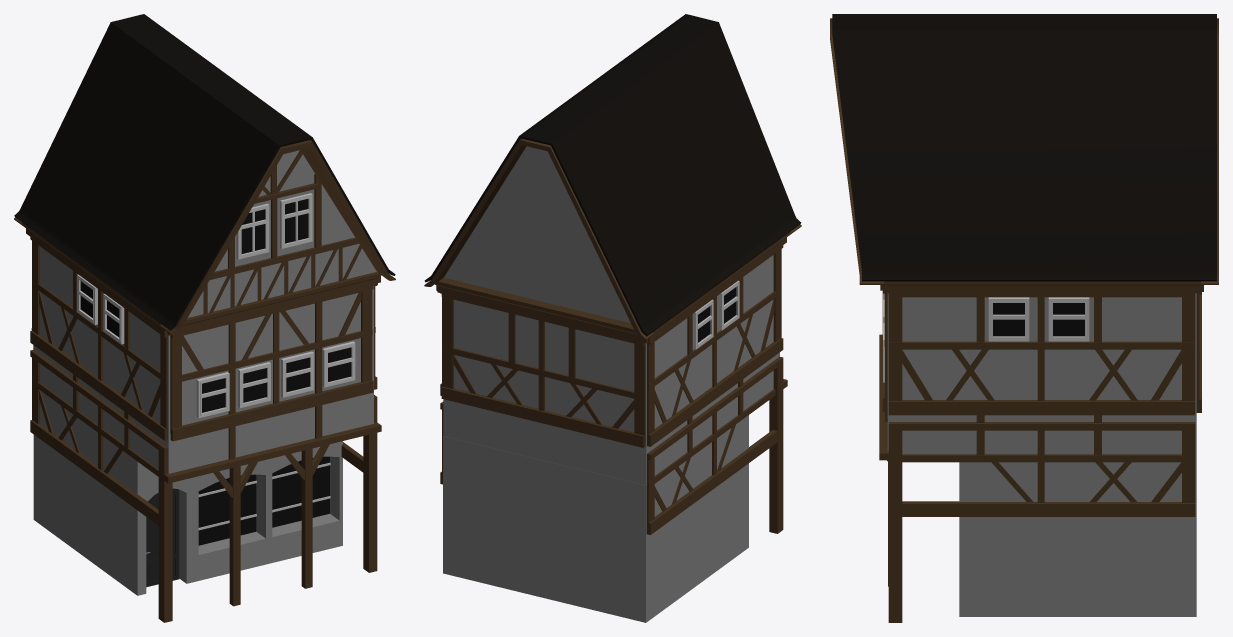
Rendered from SM_house_german_004.fbx.
The picture shows the model from 3 angles, left to right: view 1: azimuth 30°, elevation 25°; view 2: azimuth 150°, elevation 25°; view 3: azimuth 270°, elevation 25°; orthographic projection. The views are drawn at different scales.
Parts seen in each view (by area): view 1: Box180; view 2: Box180; view 3: Box180.
Part boxes in pixels (<box>): Box180: <box>14,14,395,622</box>; Box180: <box>424,14,801,622</box>; Box180: <box>830,14,1218,622</box>.
Bounding box in the file's own units: 243 × 318 × 488.
